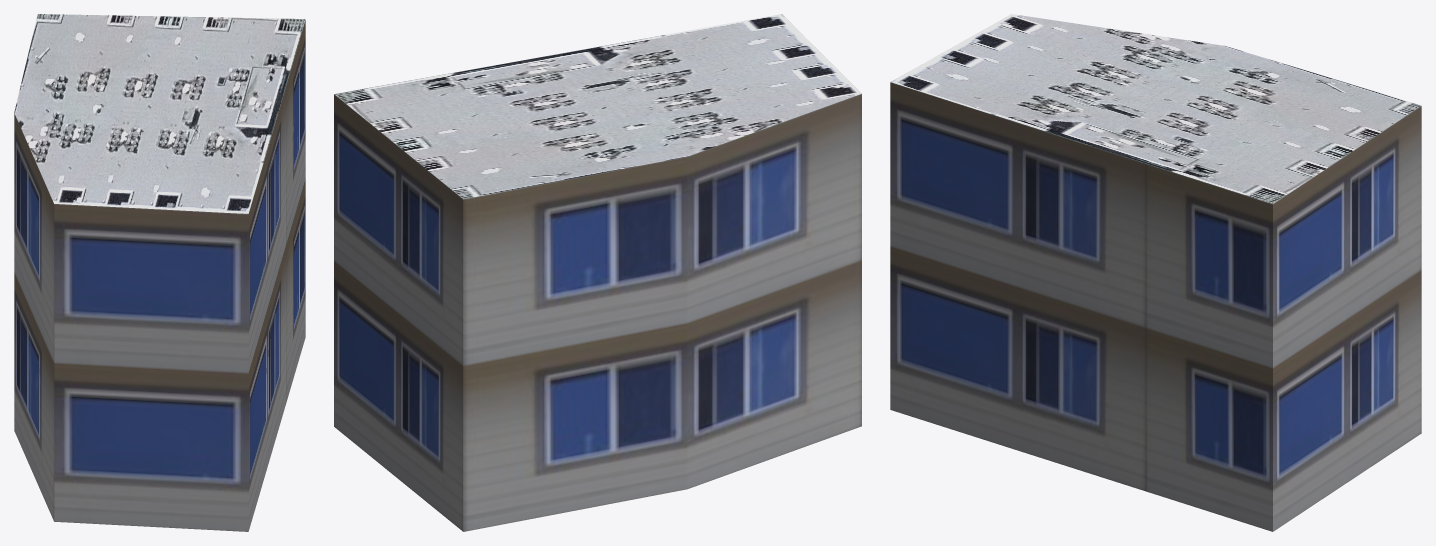
File: ResTex__4103.fbx
3 renders of one model, left to right at view 1: azimuth 30°, elevation 25°; view 2: azimuth 150°, elevation 25°; view 3: azimuth 270°, elevation 25°, orthographic. The views are drawn at different scales.
Visible parts, largest first — view 1: CityEngineMaterial_23_m, CityEngineMaterial_4_m; view 2: CityEngineMaterial_23_m, CityEngineMaterial_4_m; view 3: CityEngineMaterial_23_m, CityEngineMaterial_4_m.
Boxes of the visible parts, left/top/right/bottom form: CityEngineMaterial_23_m: left=14, top=20, right=305, bottom=531; CityEngineMaterial_4_m: left=14, top=14, right=305, bottom=213; CityEngineMaterial_23_m: left=334, top=94, right=861, bottom=531; CityEngineMaterial_4_m: left=334, top=14, right=861, bottom=199; CityEngineMaterial_23_m: left=890, top=82, right=1421, bottom=531; CityEngineMaterial_4_m: left=890, top=14, right=1421, bottom=203.
Bounding box in the file's own units: 7.47 × 6 × 8.82.
2 materials, 2 textured.
